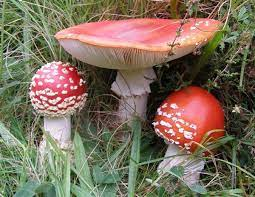Amanita muscaria: (47, 16, 231, 124), (150, 81, 229, 188), (25, 55, 86, 159)
